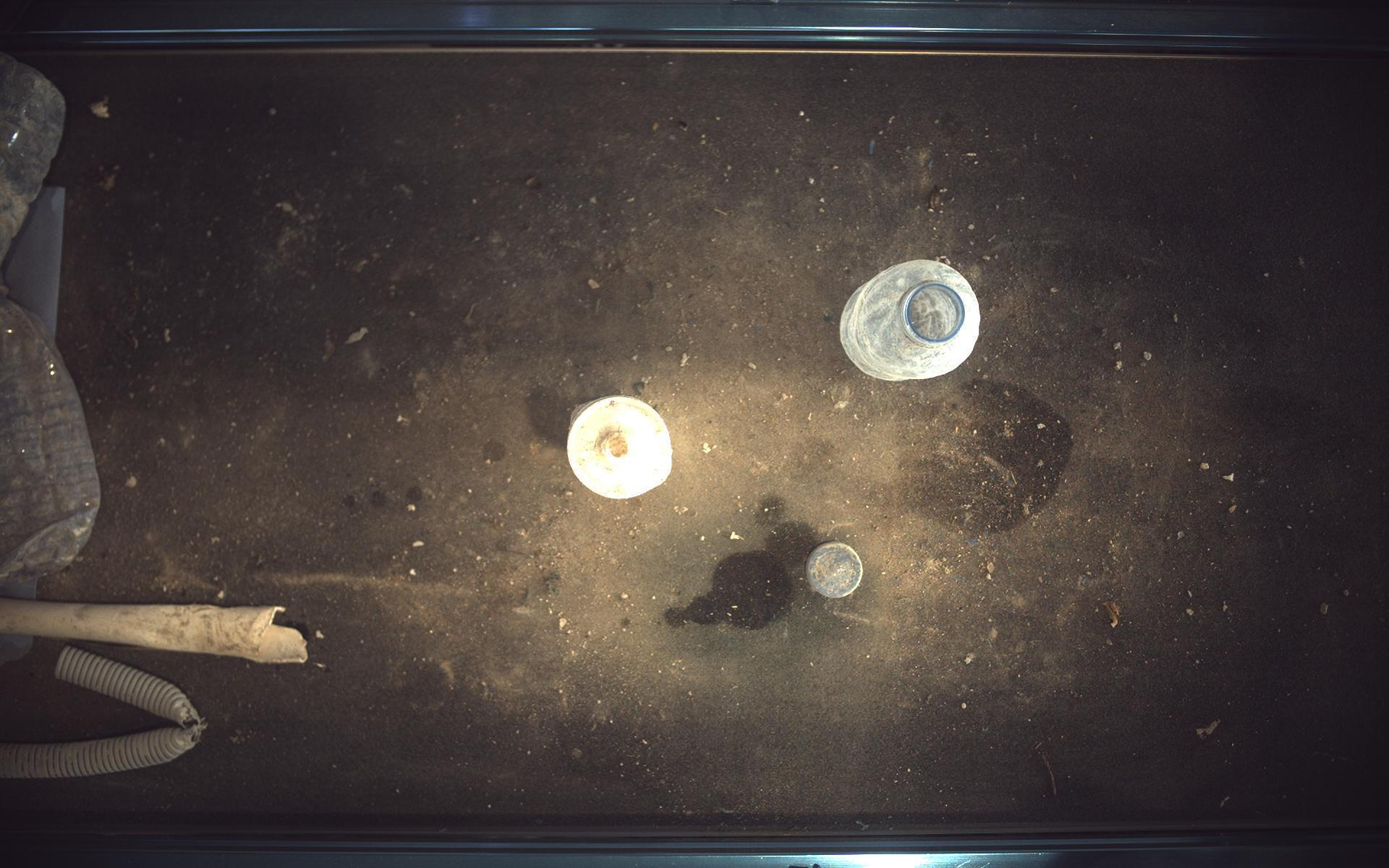general_w: (1, 286, 99, 588), (842, 259, 982, 380), (1, 51, 64, 261), (809, 544, 865, 599)
pipes: (1, 647, 204, 780), (1, 600, 306, 664)
plastic: (568, 396, 673, 499)
